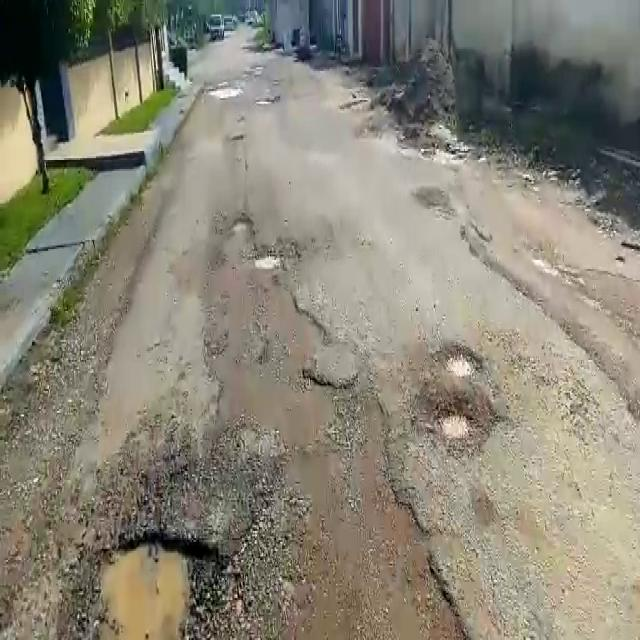Pothole: (94, 528, 216, 640), (444, 344, 479, 379), (440, 412, 471, 443), (255, 249, 281, 270), (228, 216, 255, 233)
